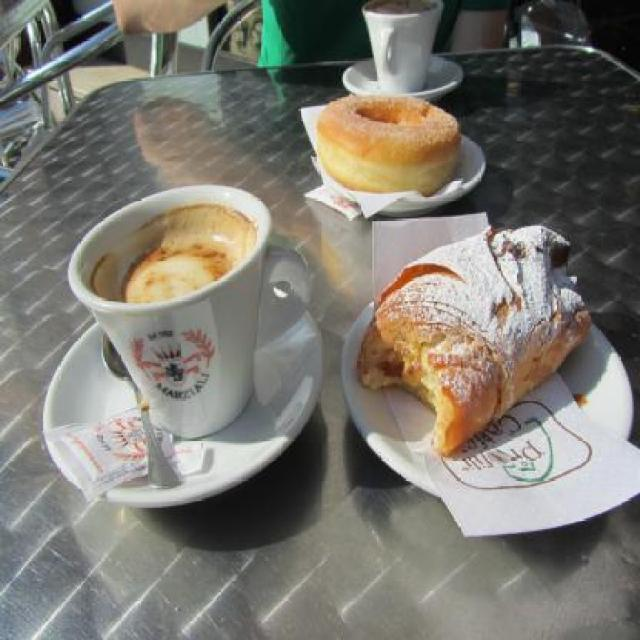Croissant: (364, 235, 588, 454)
